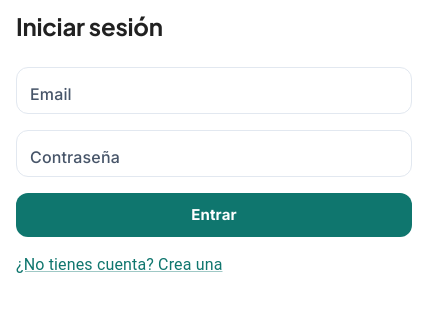
it: LoginView › shows field errors and sends nothing when the form is empty
This screenshot has width=429, height=328.
Click the button "Entrar": x=214, y=215 top-left (16, 193), bottom-right (412, 237)
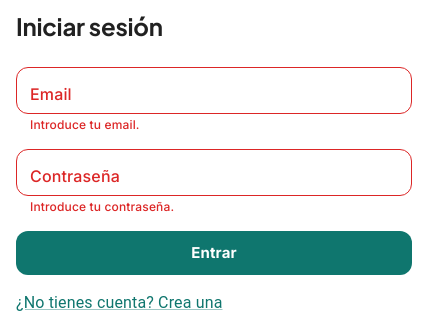
Check: the text "Introduce tu email." is shown, box top-left (30, 117), bottom-right (140, 132)
Check: the text "Introduce tu contraseña." is shown, box top-left (30, 199), bottom-right (174, 214)
